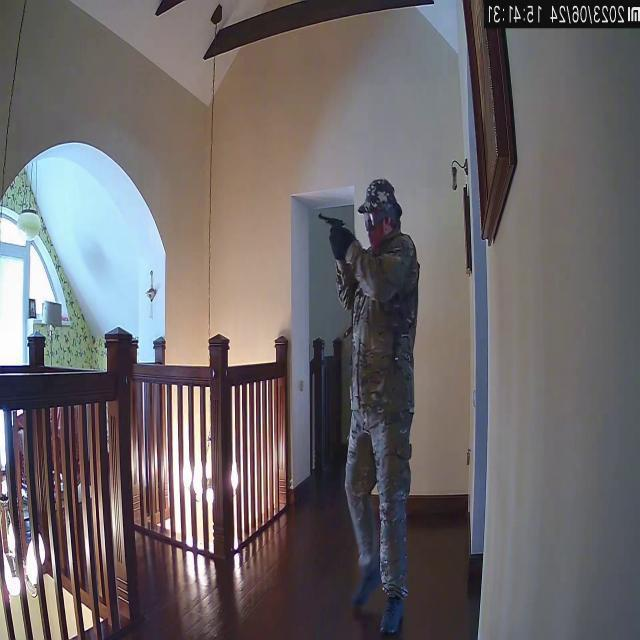pistol: (316, 210, 345, 242)
